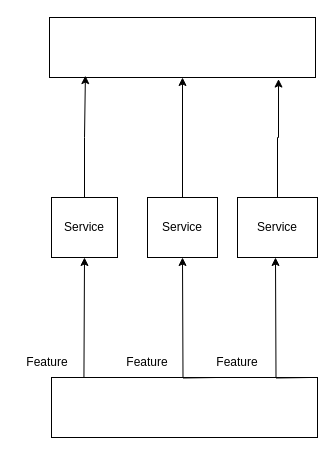
The diagram is 335 pixels wide and 455 high, and some of its shapes have lost their labels. The shapes that lost their labels are listed below. From the top down, each one's centre as x and y in pixels, then its label:
the point at 182,47: Hardware
the point at 184,407: Auto
